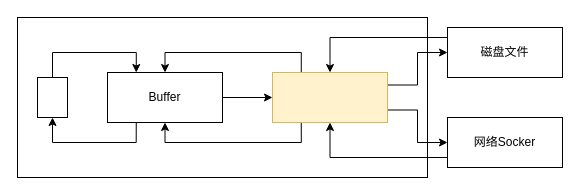
Image size: 580x195. Some labels were removed from this diagram. The shapes that lost their labels are listed below. From the top down, each one's box as (x1, y1, x2, y2) in pixels, then its label:
(36, 76, 68, 118): 内存数据
(272, 72, 388, 122): Channel
